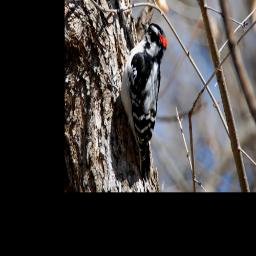Woodpecker: (118, 18, 169, 182)
